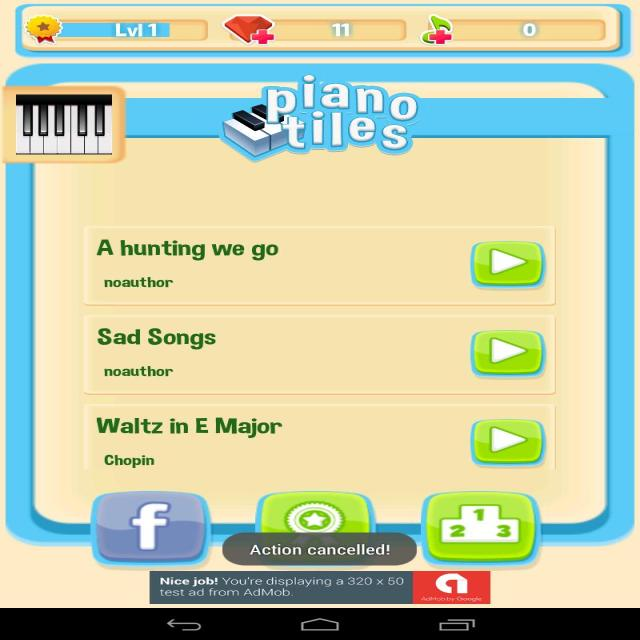button: (413, 490, 548, 562), (90, 490, 218, 563), (251, 482, 374, 556), (462, 328, 550, 382), (464, 239, 551, 290), (462, 413, 547, 465)
heading: (248, 74, 441, 157)
iframe: (146, 571, 491, 603)
image: (0, 86, 131, 163), (219, 15, 288, 48), (22, 15, 68, 46), (421, 16, 462, 47)
text: (88, 407, 282, 476), (83, 236, 287, 291), (87, 320, 236, 383)
